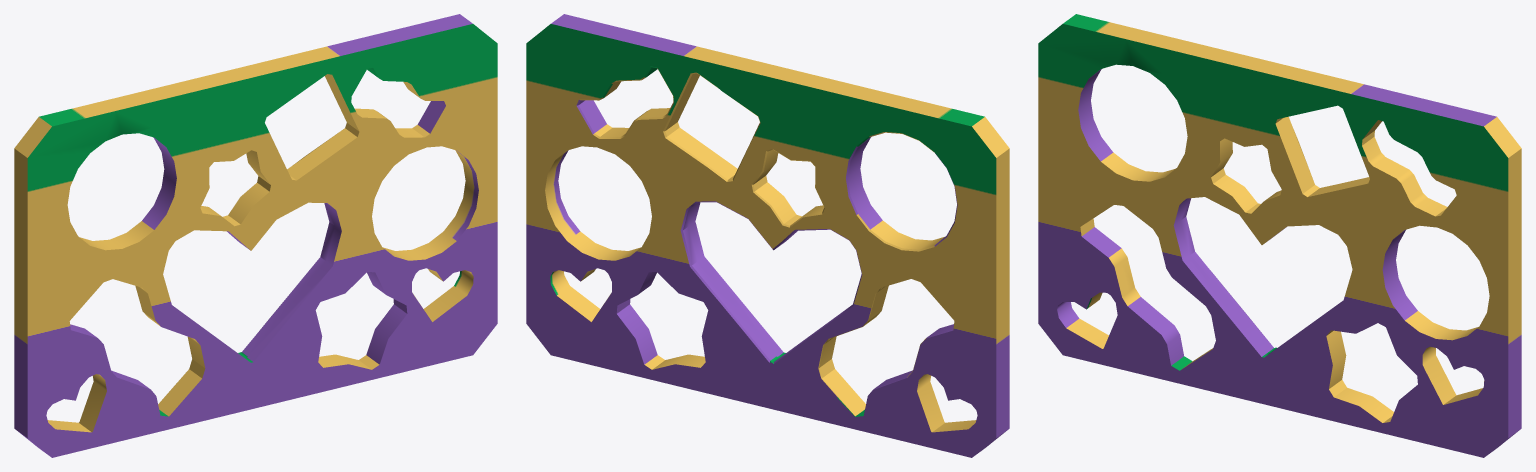
The model's file is O_HoleWall1.fbx.
3 views of the same model, side by side, from view 1: azimuth 30°, elevation 25°; view 2: azimuth 150°, elevation 25°; view 3: azimuth 330°, elevation 25° (orthographic).
Parts seen in each view (by area): view 1: pCube15; view 2: pCube15; view 3: pCube15.
Part boxes in pixels (box(x1,y1,x2,y2)): pCube15: box(14, 14, 497, 457); pCube15: box(526, 14, 1009, 457); pCube15: box(1038, 14, 1521, 457).
Size of the model in its own units: 2708 by 1825 by 133.
